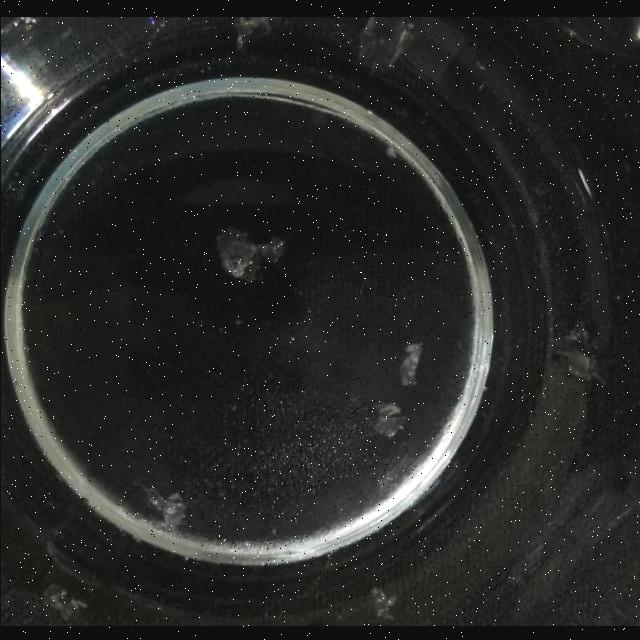Fibre: (550, 321, 604, 381), (356, 15, 408, 69), (136, 482, 187, 530), (44, 584, 86, 622), (234, 15, 282, 47), (372, 402, 406, 438), (398, 341, 422, 385), (368, 586, 398, 620), (384, 144, 398, 158)
Fragment: (214, 226, 284, 280)
